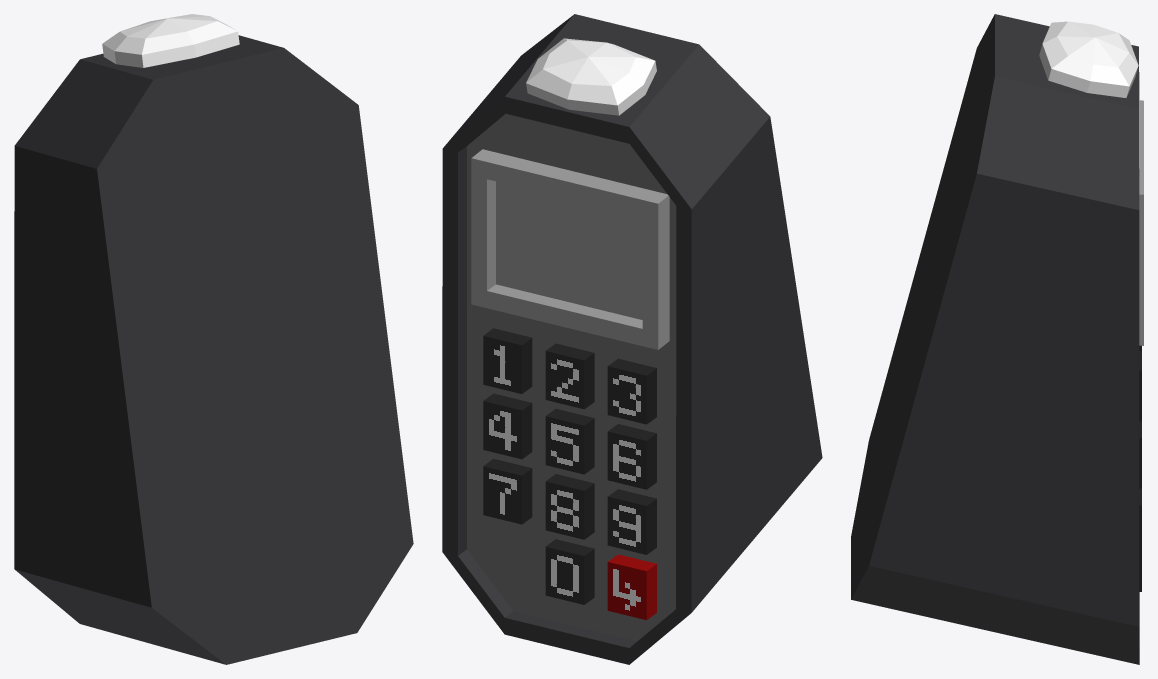
File: KeyPadBig.gltf
3 views of the same model, side by side, from view 1: azimuth 30°, elevation 25°; view 2: azimuth 150°, elevation 25°; view 3: azimuth 270°, elevation 25° (orthographic). The views are drawn at different scales.
Visible parts, largest first — view 1: mesh, sphere; view 2: mesh, sphere, 2, 3, 4, 1, 5, 6, 7, 8, 0, 9 (+1 smaller); view 3: mesh, sphere.
Boxes of the visible parts, left/top/right/bottom form: mesh: left=14, top=35, right=413, bottom=664; sphere: left=102, top=14, right=239, bottom=67; mesh: left=442, top=14, right=822, bottom=664; sphere: left=526, top=38, right=656, bottom=115; 2: left=545, top=343, right=594, bottom=409; 3: left=607, top=358, right=656, bottom=424; 4: left=483, top=393, right=532, bottom=459; 1: left=483, top=328, right=532, bottom=393; 5: left=545, top=408, right=594, bottom=474; 6: left=607, top=424, right=656, bottom=489; 7: left=483, top=458, right=532, bottom=524; 8: left=545, top=474, right=594, bottom=539; 0: left=545, top=539, right=594, bottom=604; 9: left=607, top=489, right=656, bottom=554; mesh: left=851, top=14, right=1143, bottom=664; sphere: left=1039, top=21, right=1138, bottom=97.
Bounding box in the file's own units: 1 × 2.22 × 0.9853.
Materials: 2 (1 with a texture image).
